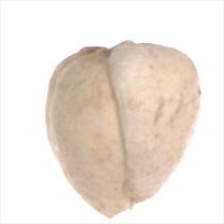L3: (82, 193, 160, 219)
L4: (44, 41, 200, 219)
